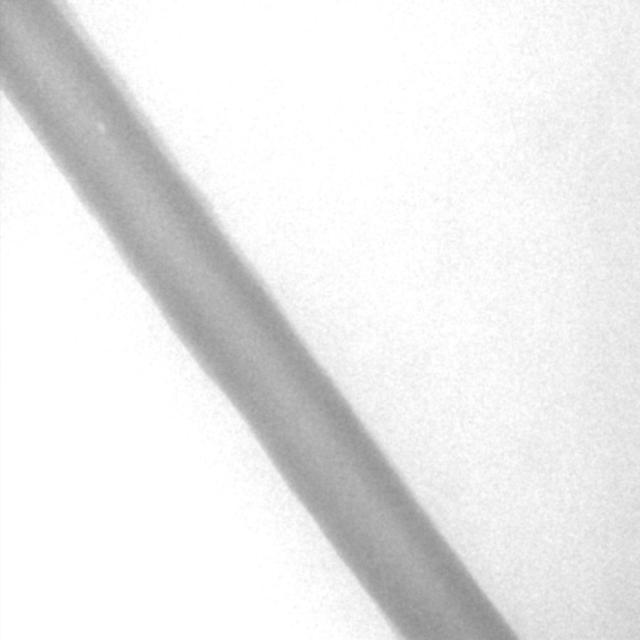air hole: (93, 118, 107, 137)
